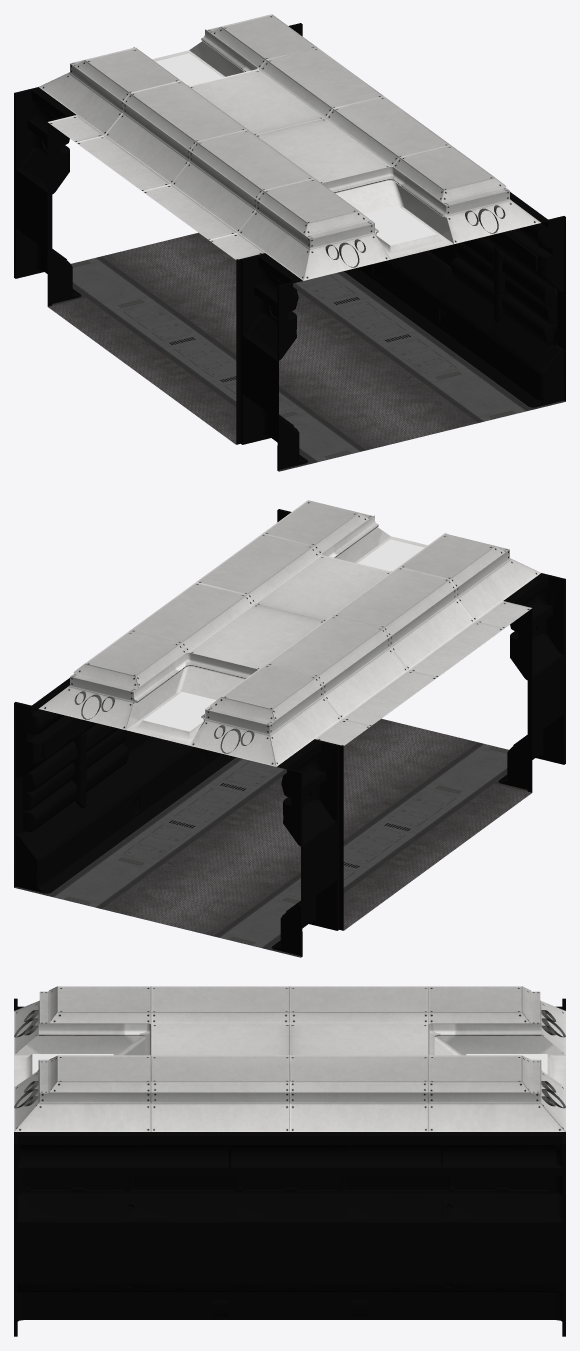
File: HallwayDoorOpening.fbx
3 views of the same model, one above another, from view 1: azimuth 30°, elevation 25°; view 2: azimuth 150°, elevation 25°; view 3: azimuth 270°, elevation 25° (orthographic). The views are drawn at different scales.
Visible parts, largest first — view 1: HallwayDoorOpening001; view 2: HallwayDoorOpening001; view 3: HallwayDoorOpening001.
Boxes of the visible parts, x1=… form: HallwayDoorOpening001: x1=14, y1=14, x2=565, y2=471; HallwayDoorOpening001: x1=14, y1=500, x2=565, y2=957; HallwayDoorOpening001: x1=14, y1=986, x2=565, y2=1336.
Size of the model in its own units: 661 by 478 by 1040.
